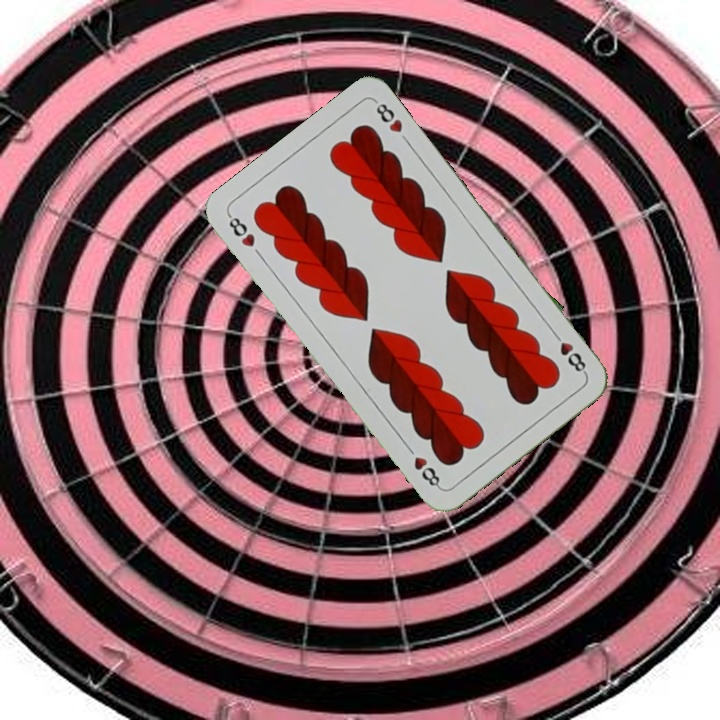H8: (547, 326, 589, 377), (224, 211, 258, 250)
